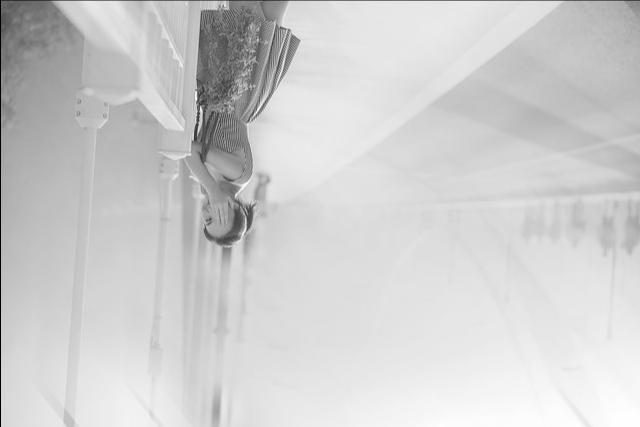Non_Gorille: (81, 0, 360, 312)
